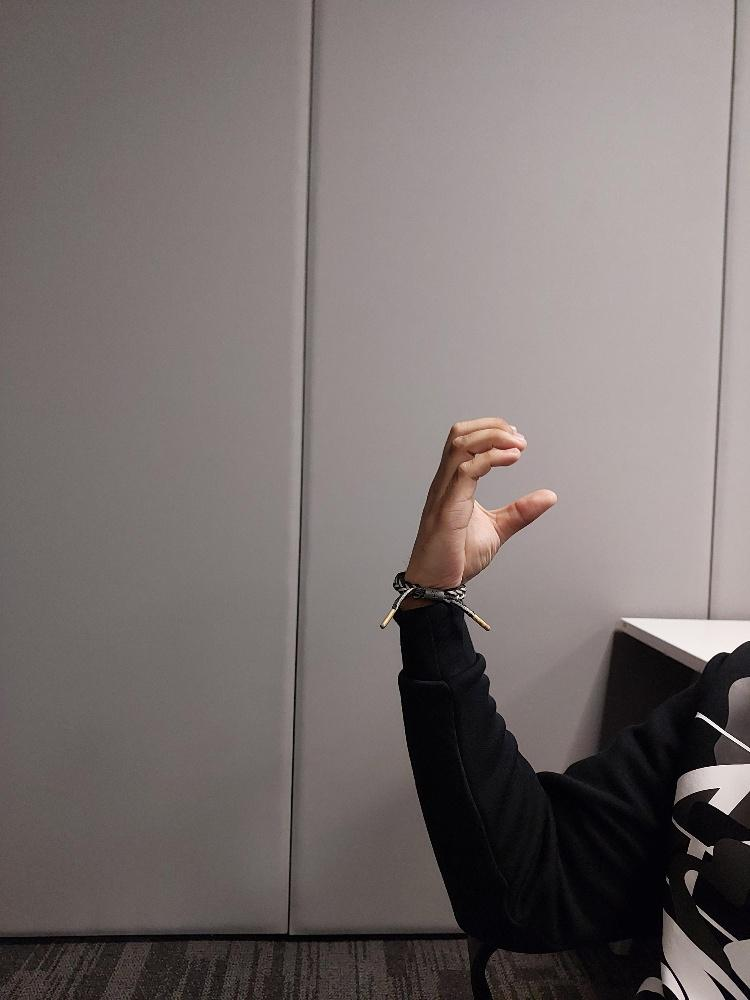c: (401, 414, 558, 590)
